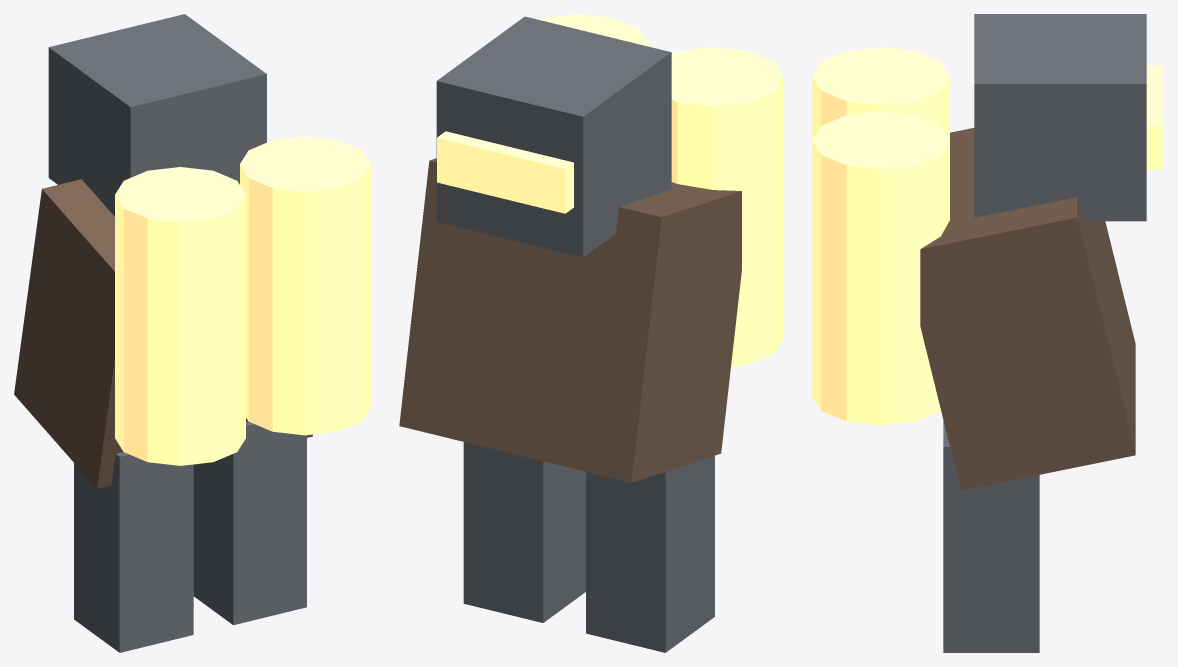
The model's file is sapper.glb.
3 renders of one model, left to right at view 1: azimuth 30°, elevation 25°; view 2: azimuth 150°, elevation 25°; view 3: azimuth 270°, elevation 25°, orthographic. The views are drawn at different scales.
Parts seen in each view (by area): view 1: TankL, TankR, Head, Torso, LegL, LegR; view 2: Torso, Head, TankL, LegL, LegR, Goggles, TankR; view 3: Torso, TankR, Head, LegR, TankL, Goggles.
Boxes of the visible parts, left/top/right/bottom form: TankL: left=115, top=167, right=245, bottom=465; TankR: left=240, top=136, right=370, bottom=435; Head: left=48, top=14, right=266, bottom=216; Torso: left=14, top=179, right=312, bottom=488; LegL: left=74, top=452, right=193, bottom=652; LegR: left=193, top=421, right=306, bottom=625; Torso: left=399, top=158, right=741, bottom=482; Head: left=436, top=16, right=671, bottom=257; TankL: left=671, top=47, right=783, bottom=366; LegL: left=586, top=455, right=714, bottom=652; LegR: left=463, top=442, right=585, bottom=622; Goggles: left=437, top=131, right=573, bottom=213; TankR: left=539, top=14, right=649, bottom=46; Torso: left=920, top=128, right=1135, bottom=490; TankR: left=812, top=111, right=949, bottom=425; Head: left=974, top=14, right=1146, bottom=221; LegR: left=943, top=420, right=1039, bottom=652; TankL: left=812, top=47, right=949, bottom=139; Goggles: left=1146, top=65, right=1163, bottom=169.
Bounding box in the file's own units: 0.84 × 1.78 × 1.02.
